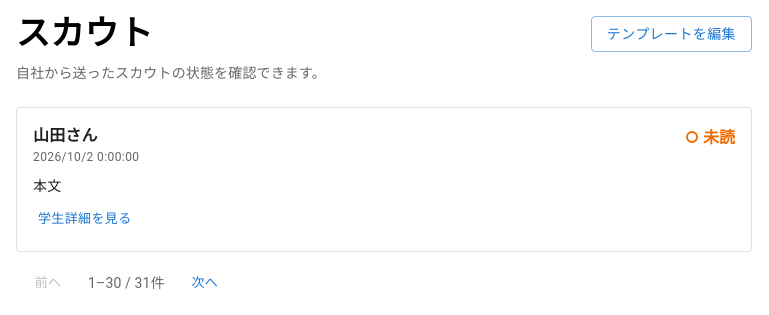
企業のスカウト送信履歴 › 31件目以降は offset を付けて次ページを読む
Expected: the text "山田さん" is shown, [33,124,98,148]
Click the button "次へ" at (205, 283), box [173,268,237,298]
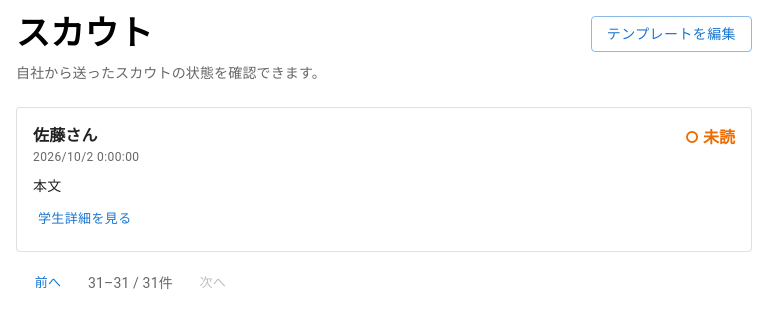
Result: the text "佐藤さん" is shown at [33,124,98,148]
